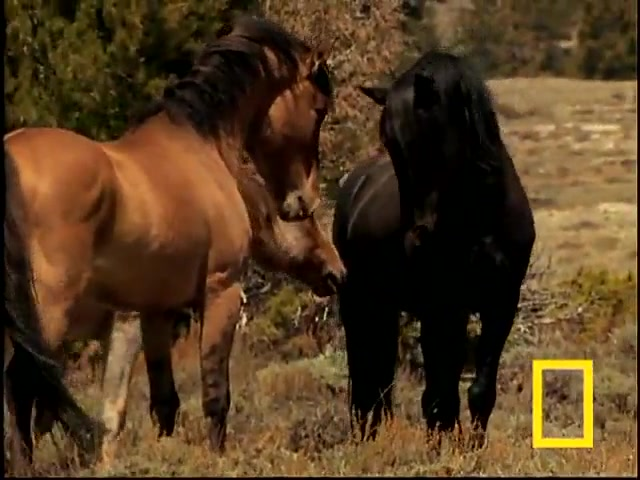horse: (1, 14, 339, 471)
